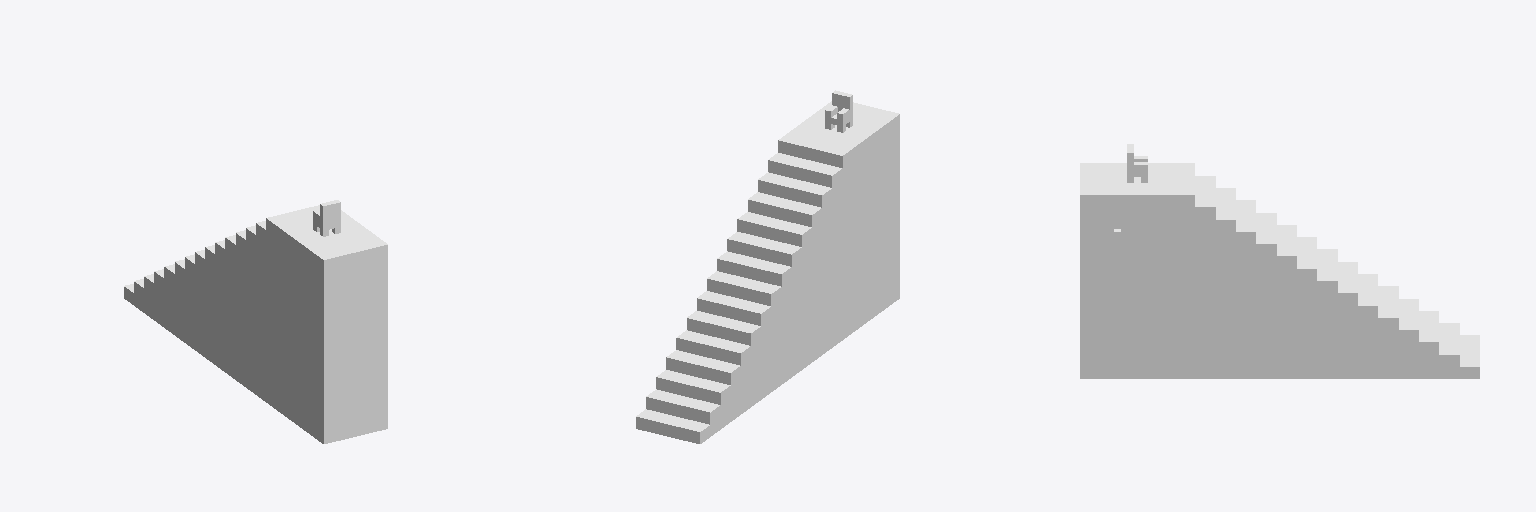
Rendered from Throneroom-Slice-Green.obj.
The picture shows the model from 3 angles: view 1: azimuth 30°, elevation 25°; view 2: azimuth 150°, elevation 25°; view 3: azimuth 270°, elevation 25°; orthographic projection.
Visible parts, largest first — view 1: throne-roomobj; view 2: throne-roomobj; view 3: throne-roomobj.
Part boxes in pixels (x1,y1,x2,y2): throne-roomobj: (124,200,387,443); throne-roomobj: (636,90,899,443); throne-roomobj: (1080,144,1479,378).
Size of the model in its own units: 1.1 by 3.5 by 5.9.